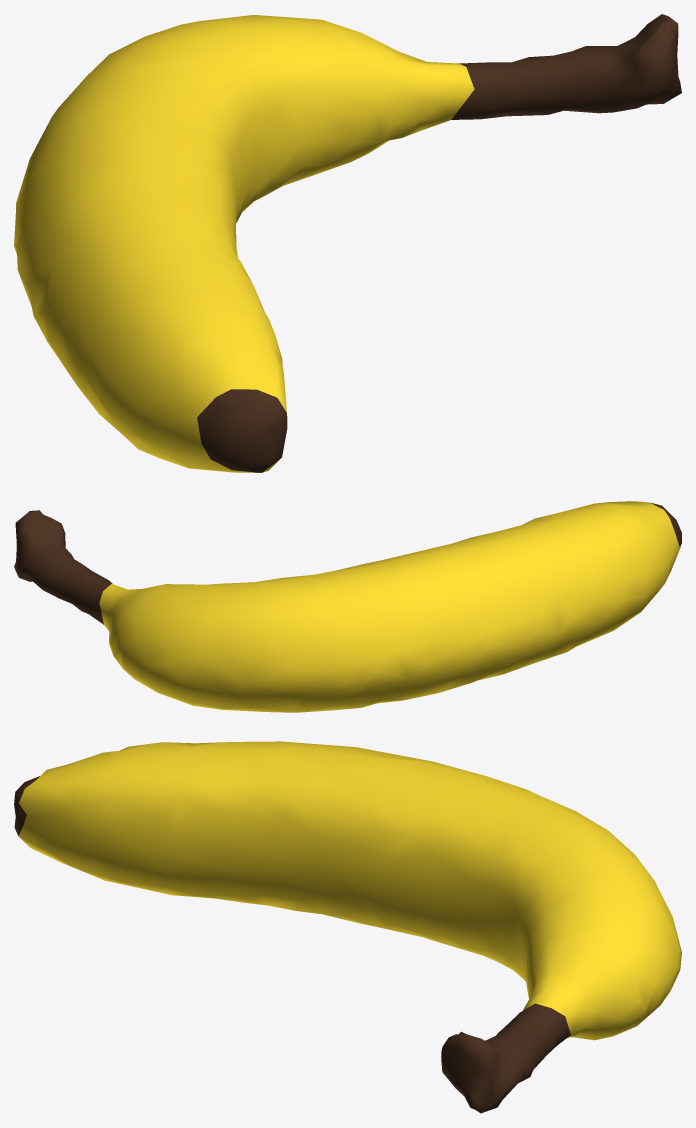
File: ToyObject_200.fbx
3 renders of one model, top to bottom at view 1: azimuth 30°, elevation 25°; view 2: azimuth 150°, elevation 25°; view 3: azimuth 270°, elevation 25°, orthographic. The views are drawn at different scales.
Parts seen in each view (by area): view 1: Object.014; view 2: Object.014; view 3: Object.014.
Boxes of the visible parts, x1,y1,x2,y2 form: Object.014: (14,14,681,472); Object.014: (14,501,681,712); Object.014: (14,741,681,1113).
Size of the model in its own units: 0.1823 by 0.0424 by 0.1677.
